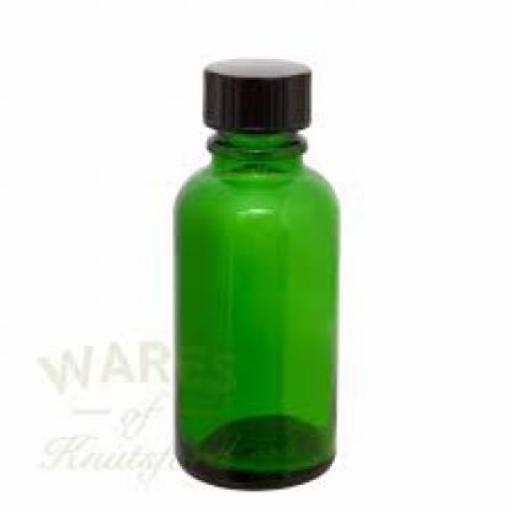glass: (170, 130, 336, 488)
plastic: (202, 56, 310, 132)
